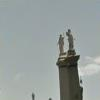Statue: (50, 20, 85, 66)
